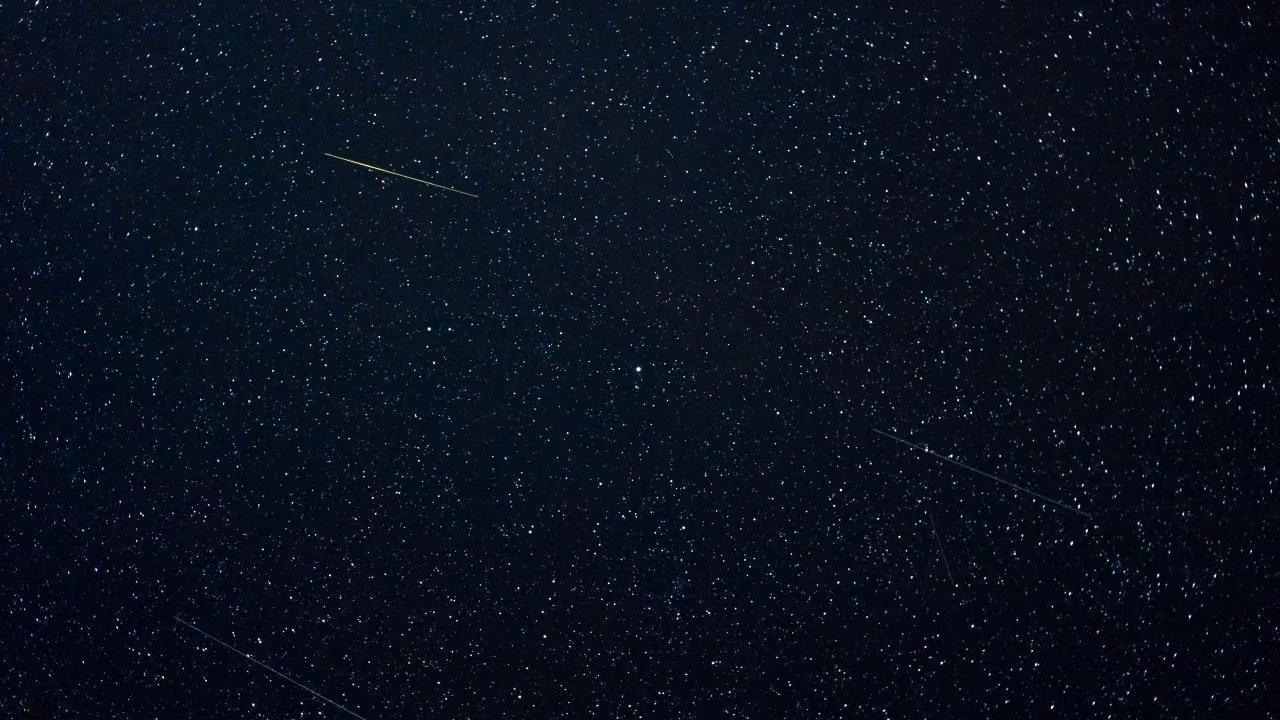meteorite: (857, 427, 1144, 557), (170, 611, 379, 720), (301, 140, 486, 197)
